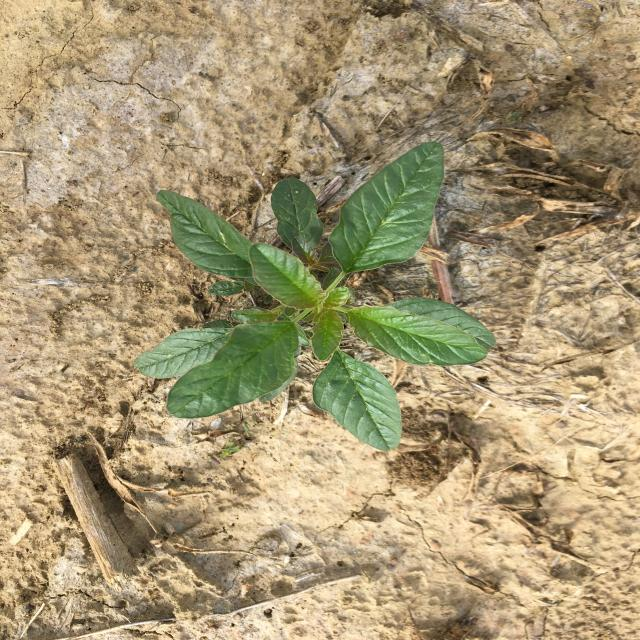Waterhemp: (134, 141, 496, 451)
